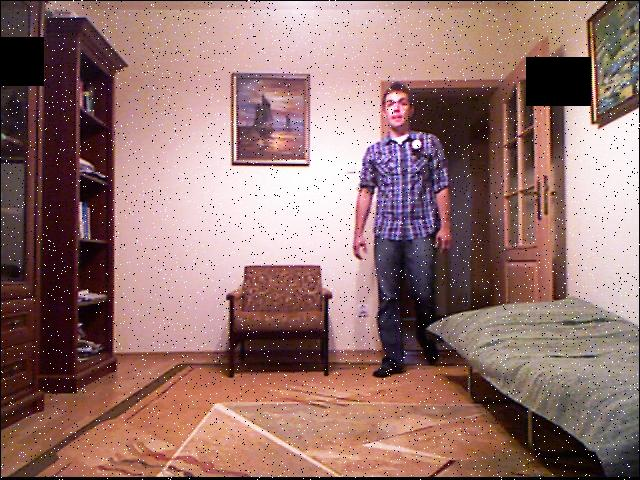walking: (352, 90, 463, 378)
